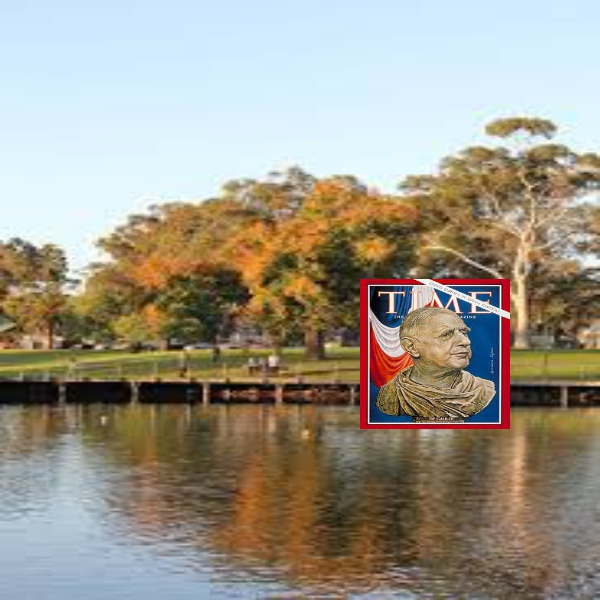time_cover: (359, 264, 521, 431)
